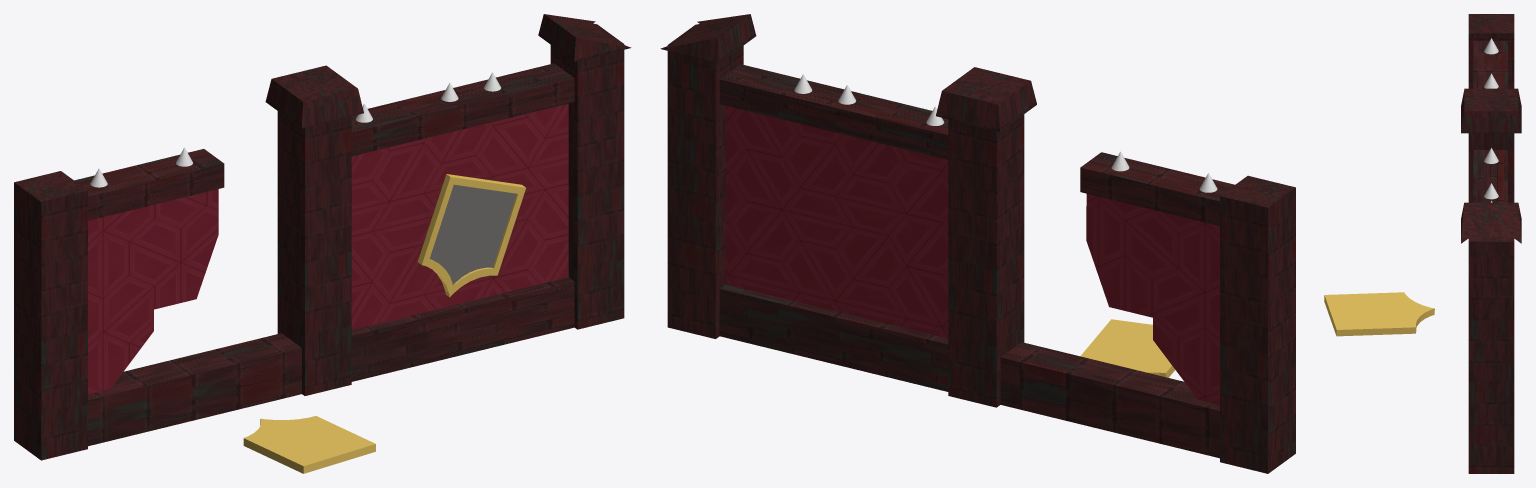
File: Barricade_Lv3_endomagee.fbx
3 views of the same model, side by side, from view 1: azimuth 30°, elevation 25°; view 2: azimuth 150°, elevation 25°; view 3: azimuth 270°, elevation 25° (orthographic). The views are drawn at different scales.
Visible parts, largest first — view 1: Cube.093, Cube.095, Cube.087, Cube.088, Cube.090, Cube.091, Cube.092, Cube.094, Cône.011, Cube.089, Cône.009; view 2: Cube.093, Cube.095, Cube.087, Cube.088, Cube.090, Cube.091, Cube.092, Cube.094, Cube.089, Cône.009; view 3: Cube.088, Cube.095, Cône.009, Cube.087, Cube.094, Cube.089, Cône.014, Cône.015.
Part boxes in pixels (x1,y1,x2,y2): Cube.093: [351, 103, 568, 329]; Cube.095: [265, 65, 363, 395]; Cube.087: [14, 171, 87, 460]; Cube.088: [538, 14, 631, 329]; Cube.090: [88, 189, 218, 394]; Cube.091: [88, 333, 301, 446]; Cube.092: [351, 277, 574, 381]; Cube.094: [351, 63, 574, 156]; Cône.011: [417, 174, 525, 297]; Cube.089: [74, 149, 224, 220]; Cône.009: [243, 416, 375, 473]; Cube.093: [725, 105, 948, 338]; Cube.095: [936, 67, 1036, 407]; Cube.087: [1220, 175, 1295, 473]; Cube.088: [660, 14, 756, 338]; Cube.090: [1086, 194, 1219, 404]; Cube.091: [1000, 342, 1219, 458]; Cube.092: [719, 284, 948, 391]; Cube.094: [719, 64, 948, 159]; Cube.089: [1080, 152, 1234, 225]; Cône.009: [1080, 319, 1175, 377]; Cube.088: [1461, 202, 1521, 473]; Cube.095: [1461, 88, 1521, 202]; Cône.009: [1324, 292, 1434, 336]; Cube.087: [1468, 14, 1514, 88]; Cube.094: [1473, 150, 1507, 202]; Cube.089: [1473, 41, 1507, 88]; Cône.014: [1484, 148, 1498, 202]; Cône.015: [1484, 38, 1498, 88].
Bounding box in the file's own units: 313 × 152 × 108.
